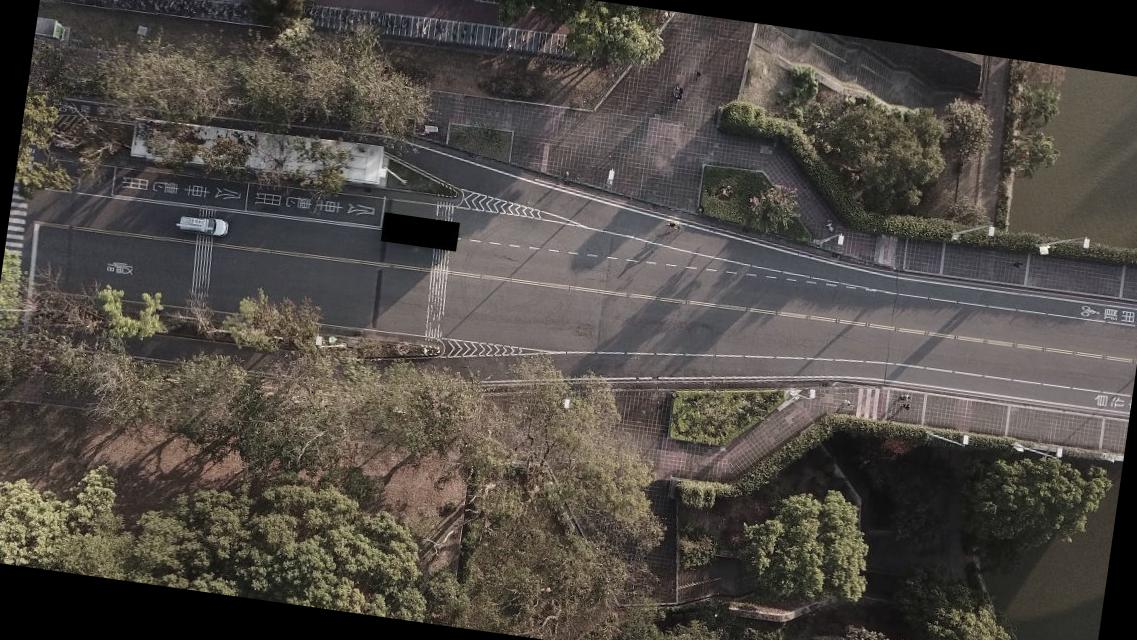vehicle: (173, 214, 230, 238)
